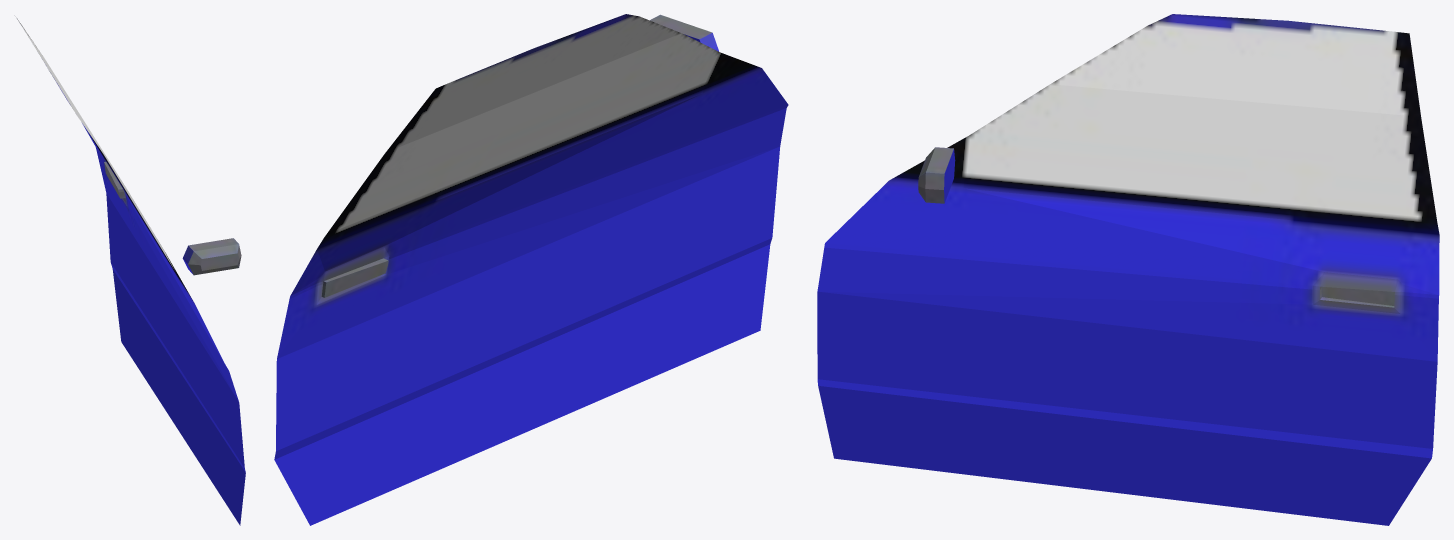
The model's file is leftdoor3.obj.
3 views of the same model, side by side, from view 1: azimuth 30°, elevation 25°; view 2: azimuth 150°, elevation 25°; view 3: azimuth 270°, elevation 25° (orthographic). The views are drawn at different scales.
Parts seen in each view (by area): view 1: leftdoor; view 2: leftdoor; view 3: leftdoor.
Part boxes in pixels (left/top/right/bottom): leftdoor: left=17, top=18, right=245, bottom=525; leftdoor: left=274, top=14, right=788, bottom=525; leftdoor: left=817, top=14, right=1439, bottom=525.
Bounding box in the file's own units: 0.3181 × 0.7008 × 0.914.
